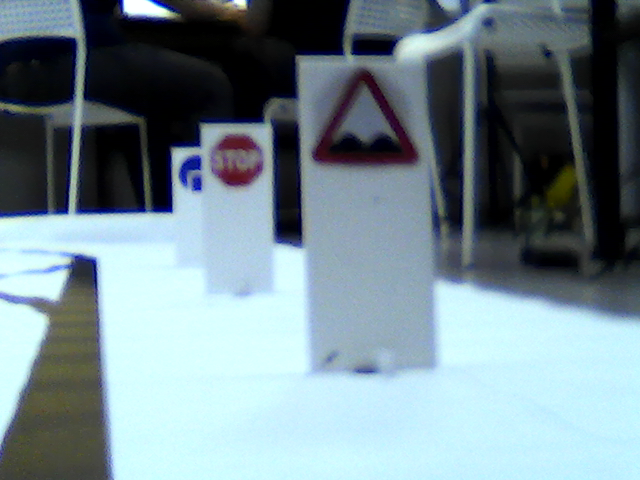Nerov: (310, 64, 417, 163)
Stop: (207, 133, 266, 187)
